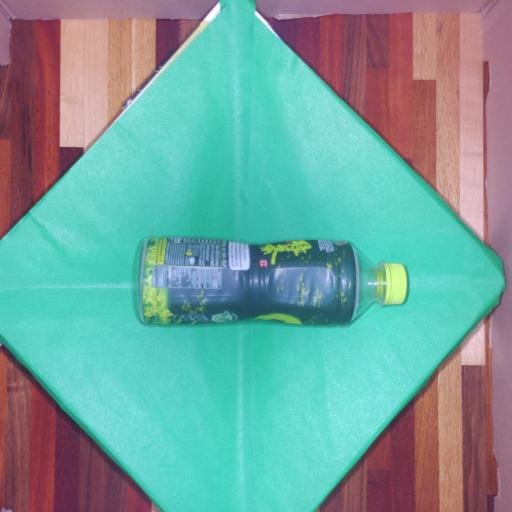bottle: (139, 238, 407, 324)
